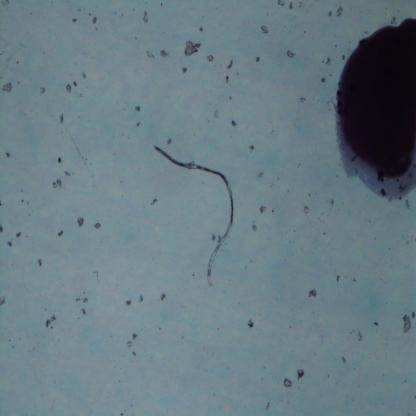Background material: (124, 330, 139, 361), (181, 40, 202, 57), (76, 293, 90, 318), (400, 313, 414, 336), (63, 79, 80, 97), (43, 312, 59, 331), (354, 327, 368, 344), (49, 176, 64, 191), (157, 45, 170, 62), (0, 291, 10, 312), (1, 80, 15, 94), (285, 47, 299, 61), (295, 364, 306, 381), (56, 112, 67, 129), (143, 47, 156, 61), (92, 218, 104, 233), (260, 22, 270, 40), (140, 10, 152, 25), (256, 202, 268, 216), (90, 14, 100, 30), (245, 317, 257, 330), (207, 230, 218, 244), (283, 378, 294, 392), (76, 215, 86, 230), (226, 57, 236, 72), (123, 296, 134, 308), (6, 240, 17, 251), (299, 94, 309, 106), (134, 104, 144, 116), (256, 168, 266, 180), (307, 289, 317, 301), (38, 84, 48, 96), (248, 142, 258, 154), (158, 292, 168, 304), (148, 198, 160, 208), (230, 118, 240, 129), (254, 54, 265, 64), (338, 353, 348, 364), (276, 0, 288, 9), (63, 168, 72, 180), (212, 110, 221, 122), (137, 293, 146, 305), (197, 22, 206, 34), (54, 156, 64, 166), (79, 72, 89, 82), (334, 274, 343, 285), (206, 54, 217, 63), (166, 135, 175, 146), (325, 57, 334, 68), (225, 72, 231, 88), (328, 8, 336, 20), (337, 6, 344, 19), (15, 229, 24, 239), (182, 66, 190, 77), (57, 228, 65, 239), (37, 257, 44, 269), (134, 120, 142, 129), (251, 223, 258, 233), (0, 222, 5, 235), (321, 78, 328, 86)
Cotton: (151, 144, 236, 285)
Pen: (334, 13, 416, 200)
